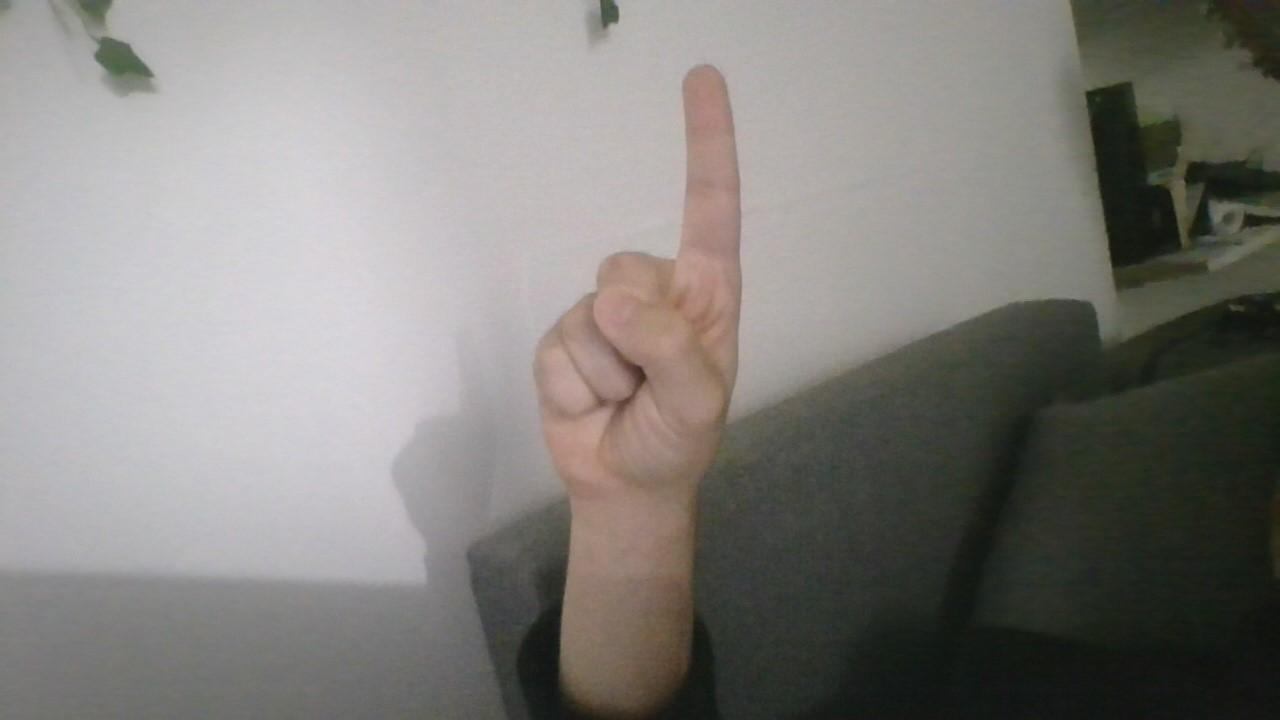up: (506, 39, 804, 525)
